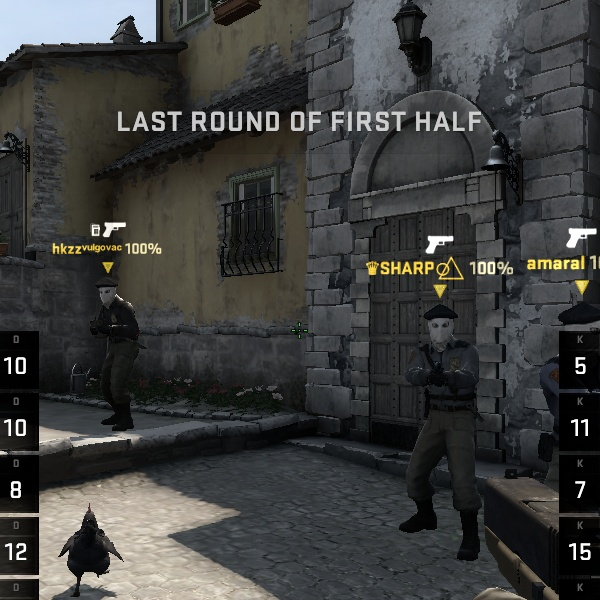t_body: (68, 276, 163, 430)
